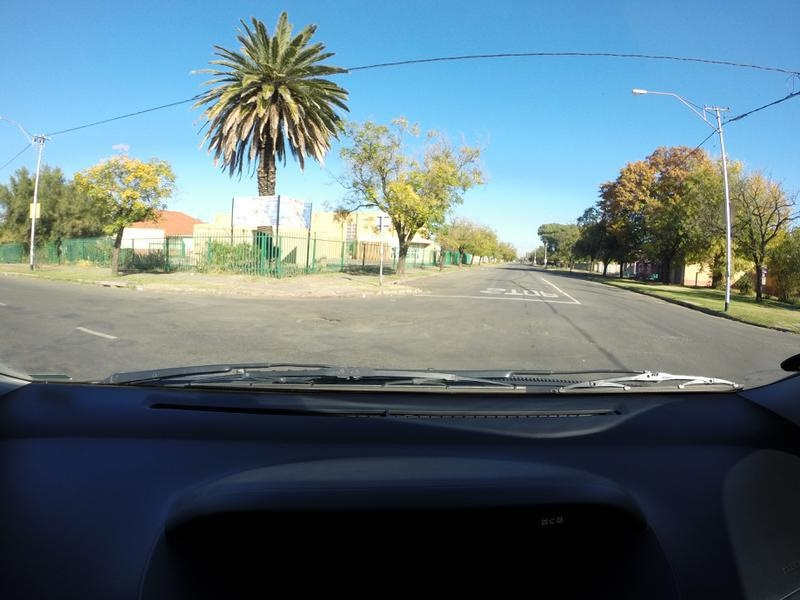pothole: (304, 311, 337, 331)
